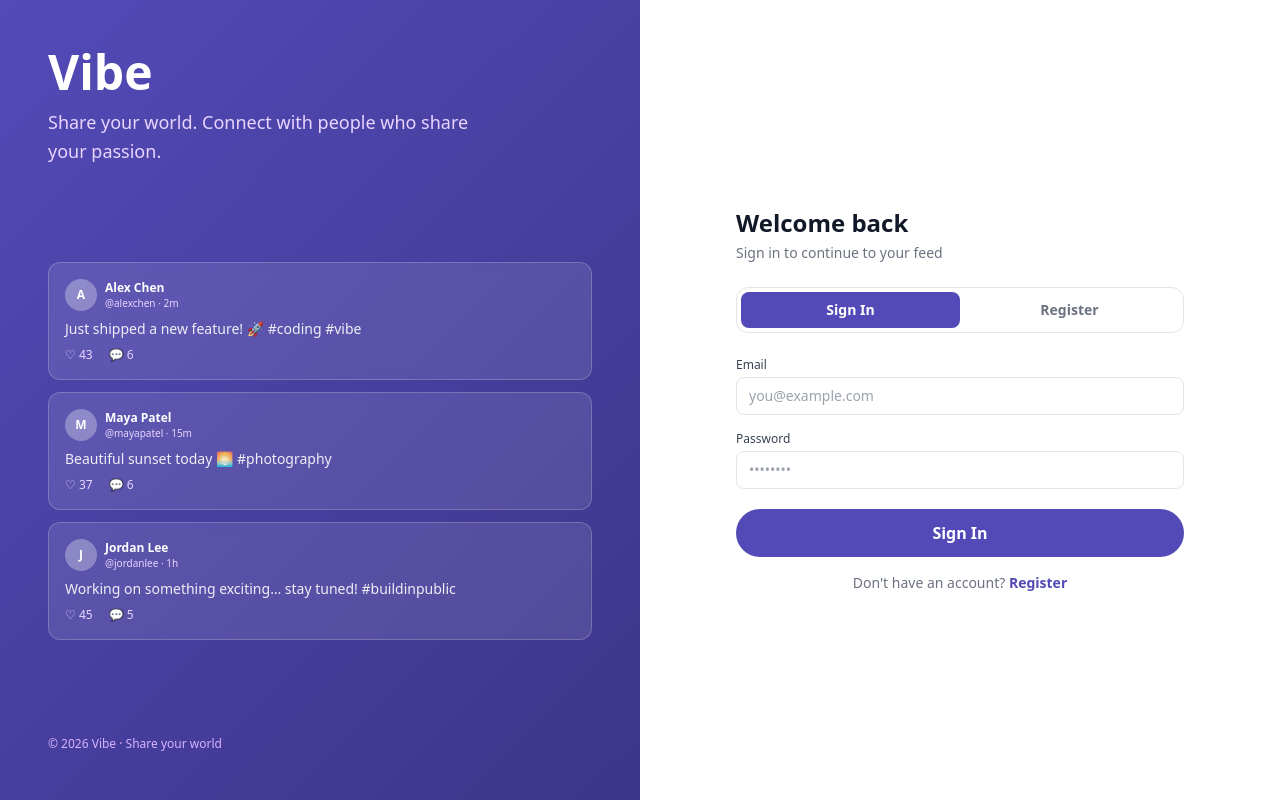
Scenario: LandingPage › reveals Name and Username fields when the Register tab is clicked
The width and height of the screenshot is (1280, 800).
Switch to the Register tab
Click the button with test id "register-tab": click(1070, 310) x1=960 y1=292 x2=1179 y2=328
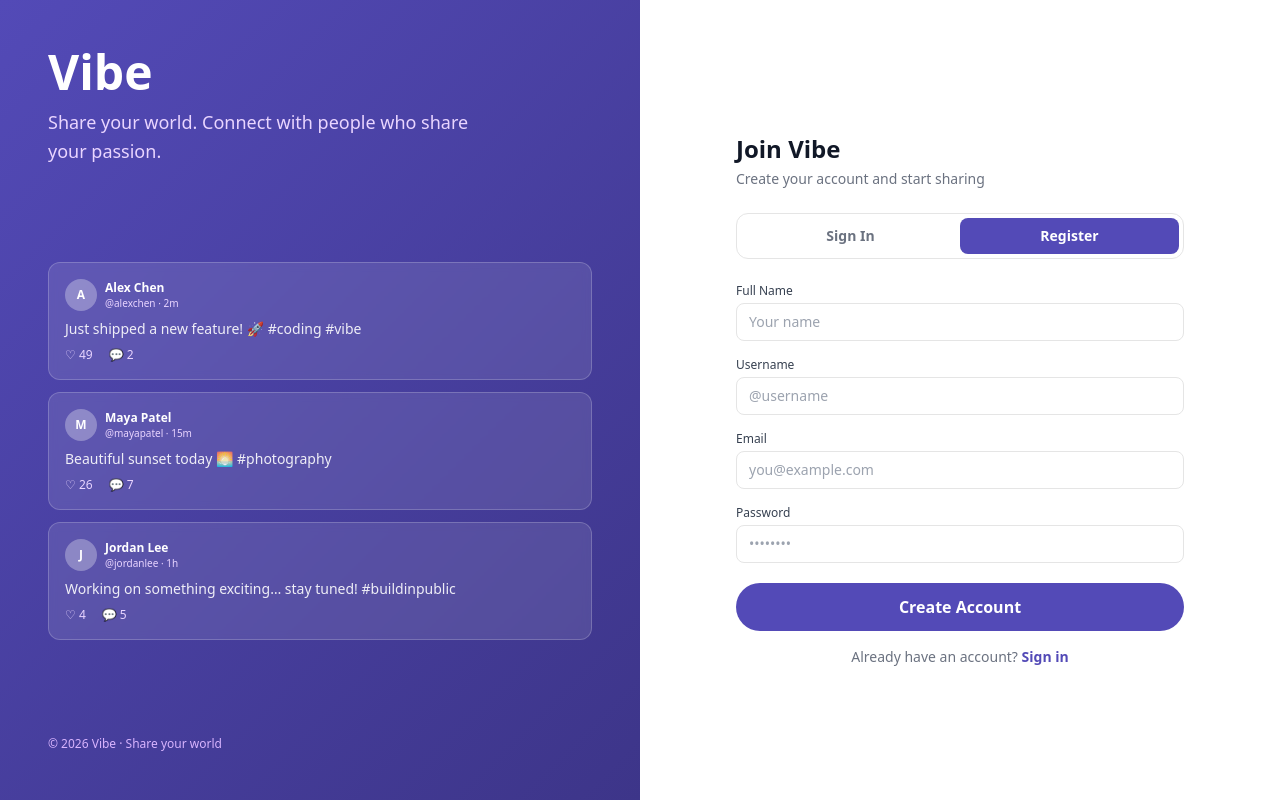
Expected: the field with test id "email-input" is shown, x1=736 y1=451 x2=1184 y2=489
Result: the field with test id "register-name" is shown at x1=736 y1=303 x2=1184 y2=341
Result: the field with test id "register-username" is shown at x1=736 y1=377 x2=1184 y2=415
